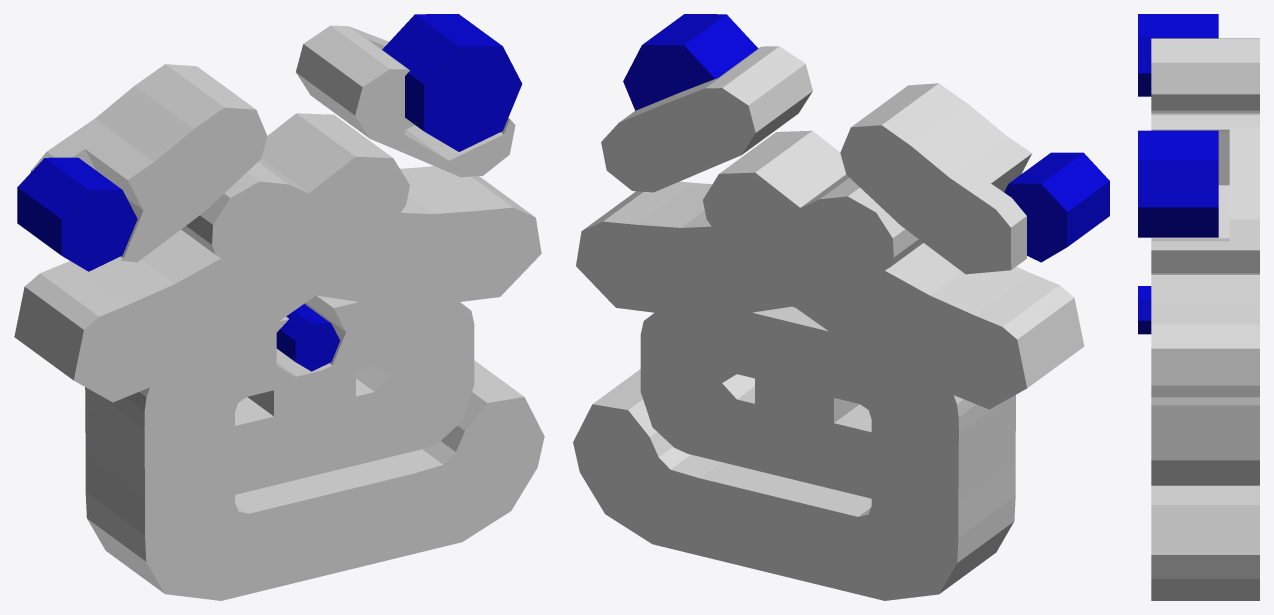
The model's file is Ch_Lite_China_爸_01.fbx.
3 renders of one model, left to right at view 1: azimuth 30°, elevation 25°; view 2: azimuth 150°, elevation 25°; view 3: azimuth 270°, elevation 25°, orthographic. The views are drawn at different scales.
Visible parts, largest first — view 1: sphere1; view 2: sphere1; view 3: sphere1.
Boxes of the visible parts, x1,y1,x2,y2 form: sphere1: (14,14,544,600); sphere1: (573,14,1109,600); sphere1: (1138,14,1259,600).
Bounding box in the file's own units: 0.9536 × 0.9357 × 0.2242.
